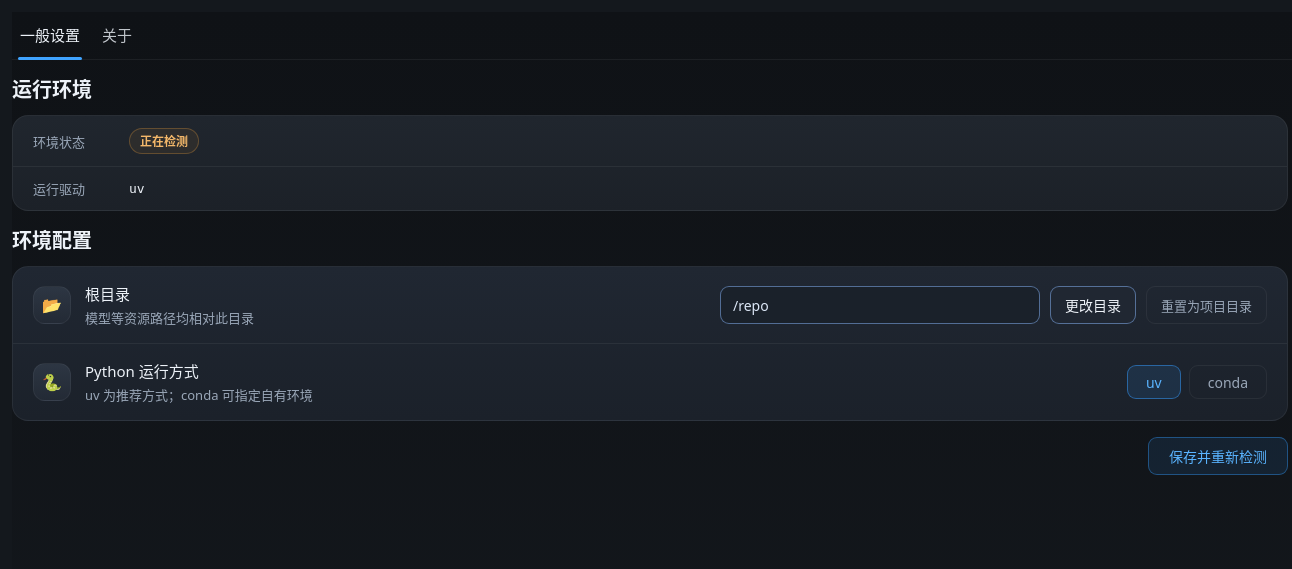
Scenario: SettingsPage › shows python exe path input when conda driver is selected
The image size is (1292, 569).
Expected: the text "Python 运行方式" is shown, x1=85 y1=361 x2=199 y2=381
Expected: the icon "🐍" is shown, x1=33 y1=363 x2=71 y2=401
Click the button "conda": x=1228, y=382 x1=1189 y1=365 x2=1267 y2=399
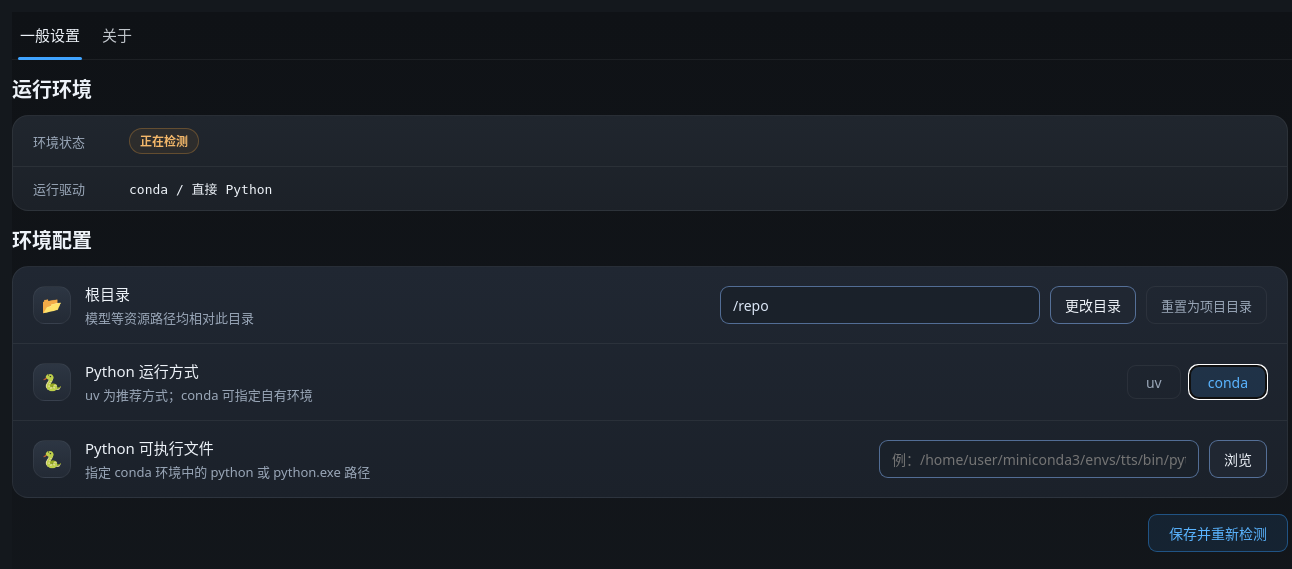
Expected: the field named "Python 可执行文件路径" is shown, x1=879 y1=440 x2=1199 y2=478
Expected: the text "Python 可执行文件" is shown, x1=85 y1=438 x2=214 y2=458
Expected: the icon "🐍" next to "Python 可执行文件" is shown, x1=42 y1=448 x2=62 y2=470
